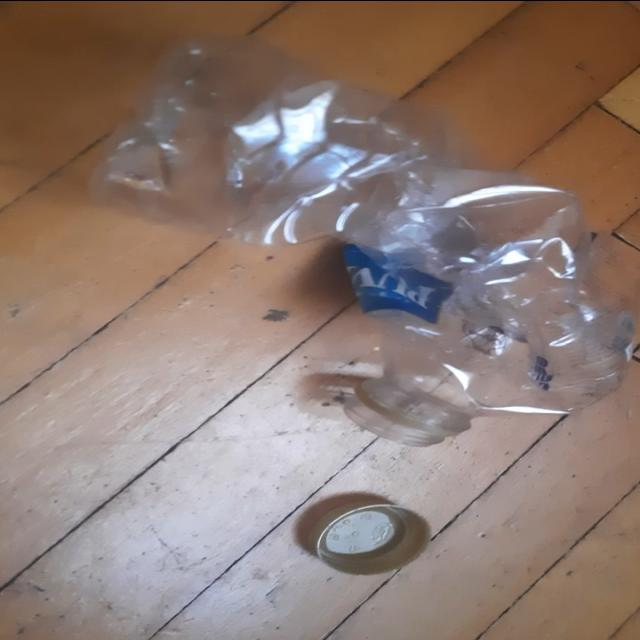Plastic: (89, 34, 635, 446)
